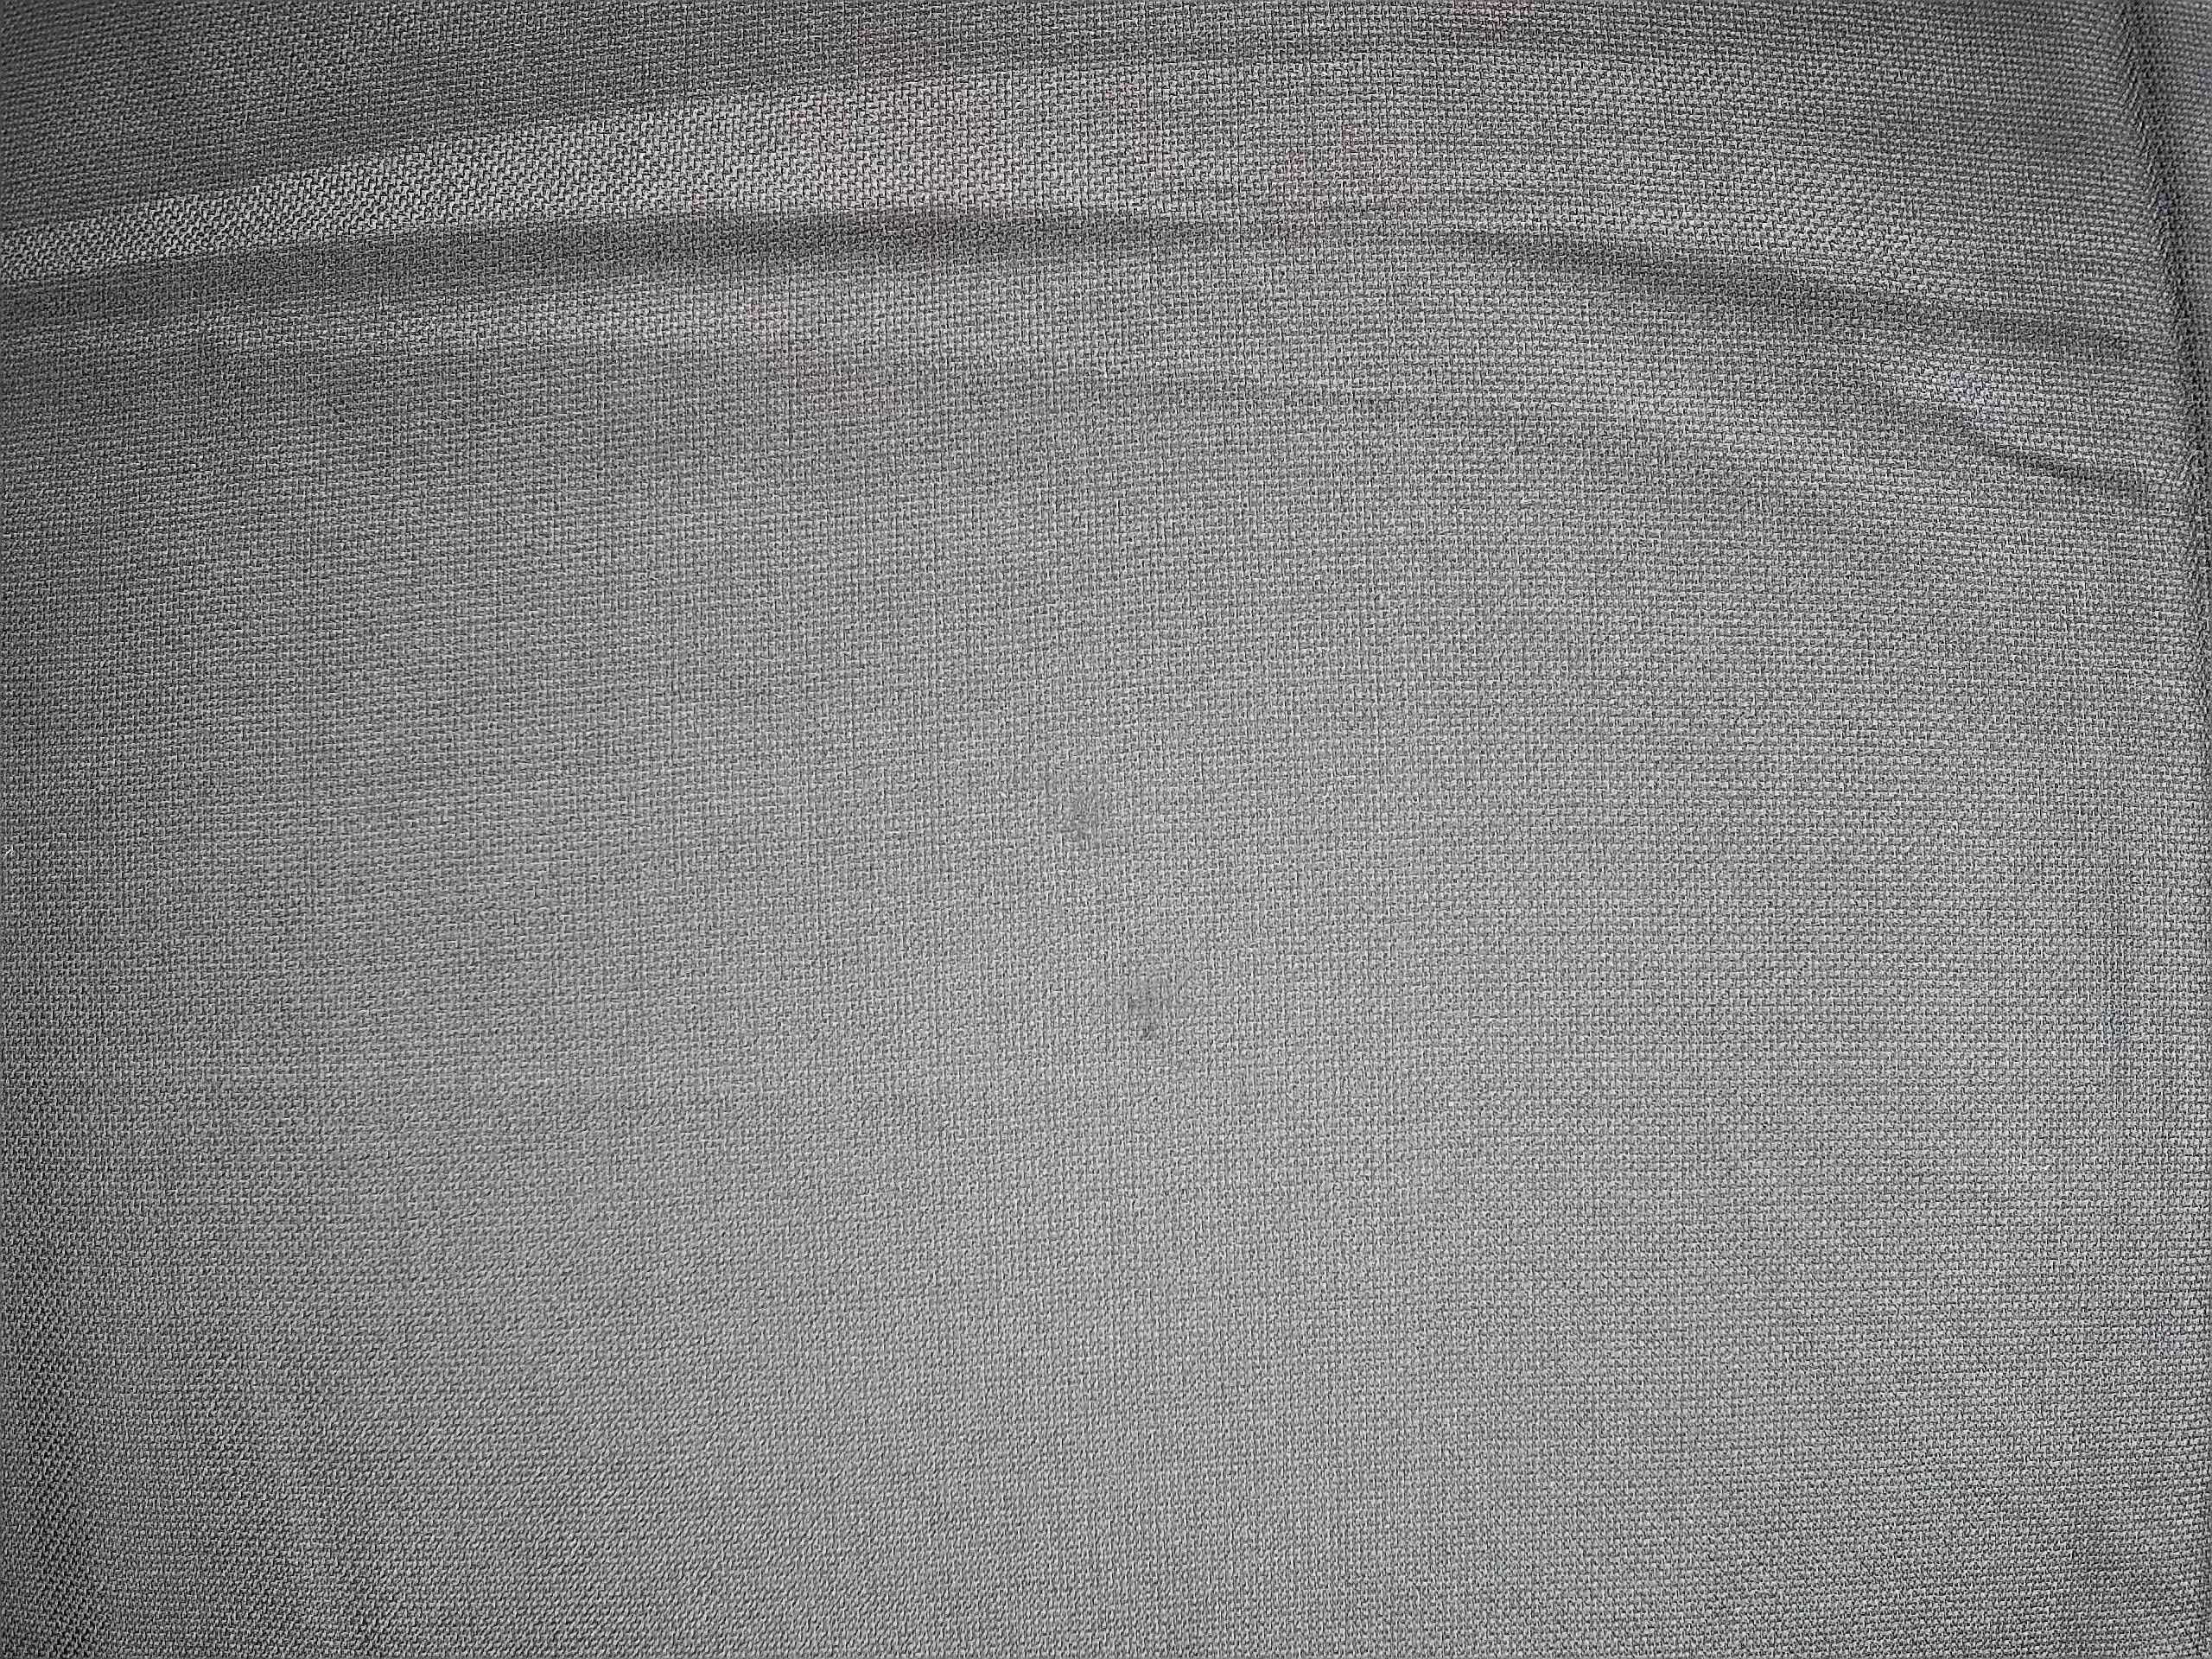jumps: (1046, 767, 1125, 866), (1113, 963, 1182, 1059)
